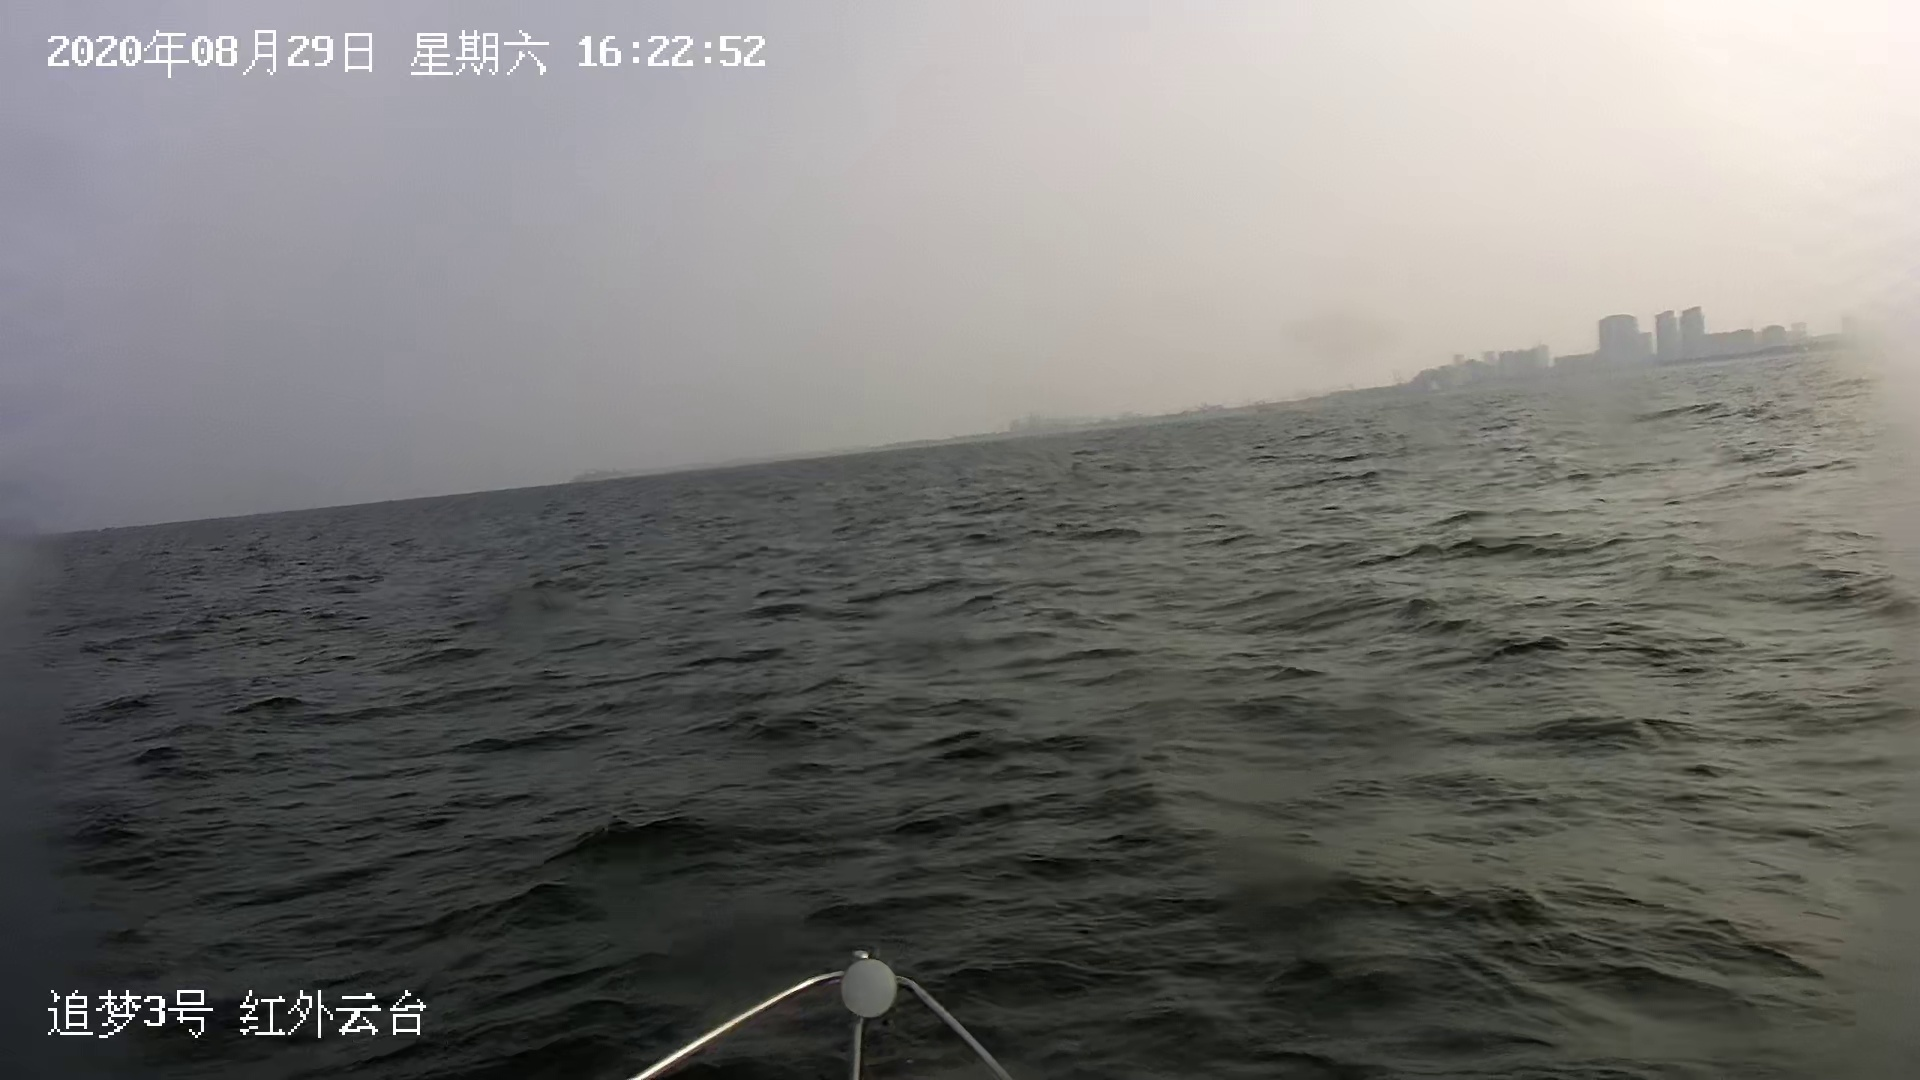coast: (851, 303, 1920, 454)
